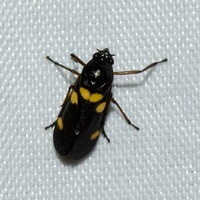insect: (45, 48, 166, 159)
